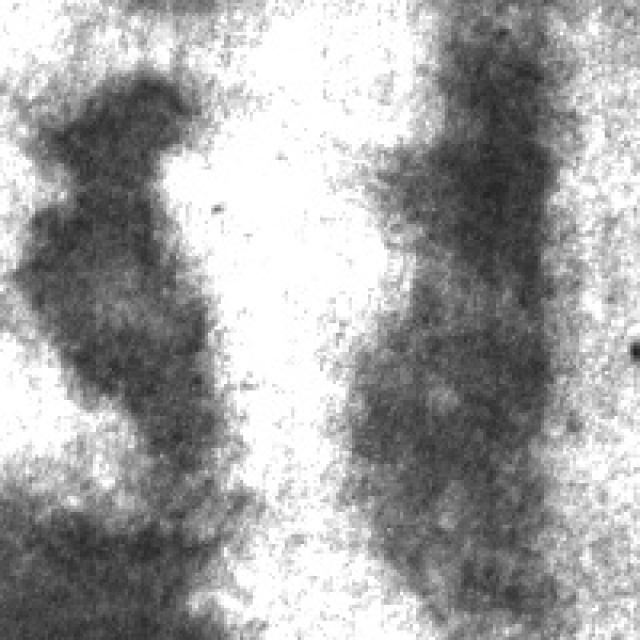patches: (336, 22, 563, 624), (9, 54, 230, 464), (0, 474, 234, 636)
